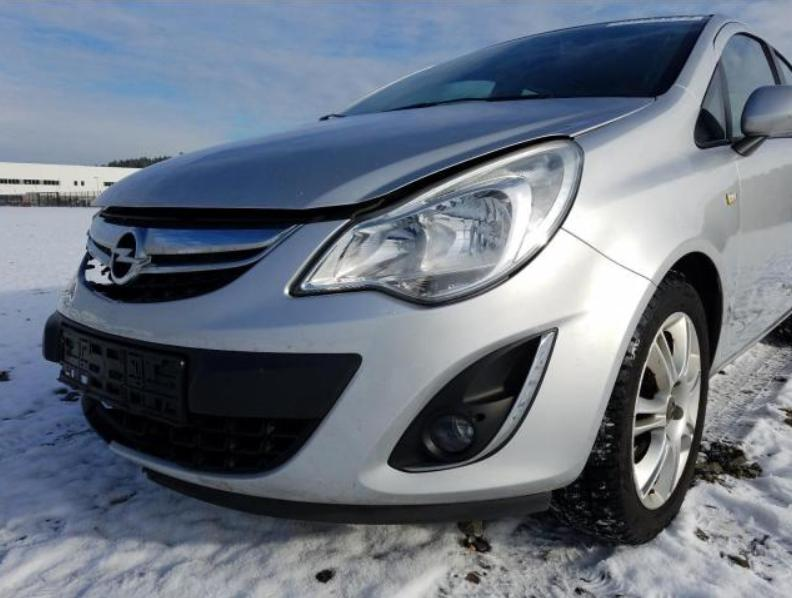Back-window: (774, 54, 792, 83)
Fender: (563, 88, 738, 371)
Front-bumper: (43, 220, 657, 524)
Front-door: (714, 23, 791, 367)
Front-wheel: (559, 275, 713, 546)
Front-window: (723, 34, 773, 134), (696, 69, 730, 143)
Grille: (78, 212, 295, 300)
Headlight: (300, 143, 581, 302)
Hood: (92, 98, 653, 208)
License-plate: (57, 320, 190, 418)
Mirror: (740, 84, 792, 138)
Windshield: (342, 15, 713, 112)
